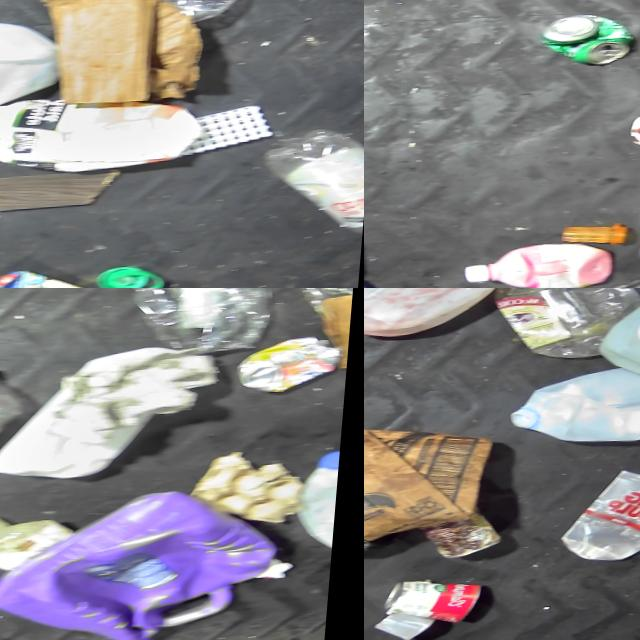can: (239, 339, 349, 398), (382, 577, 499, 632), (544, 20, 634, 68)
milk_jug: (512, 375, 640, 449), (0, 21, 76, 126), (295, 453, 347, 560)
non_white_jug: (0, 486, 306, 640)
plastic_bottle: (263, 124, 364, 240), (486, 288, 637, 365), (283, 288, 359, 324)
